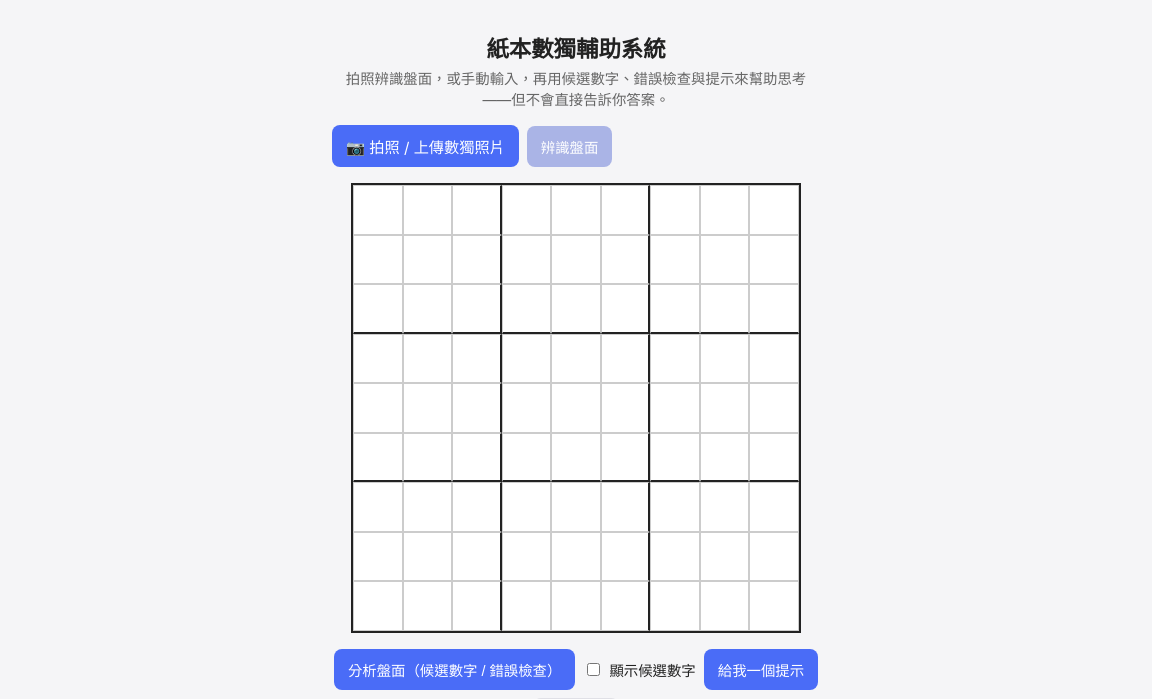
Test: App › clears manual candidates when a value is entered into the cell
The width and height of the screenshot is (1152, 699).
Press the mouse on the 1st element with class "cell" at {"x": 378, "y": 210}, box [353,185,402,234]
Wait 500 ms
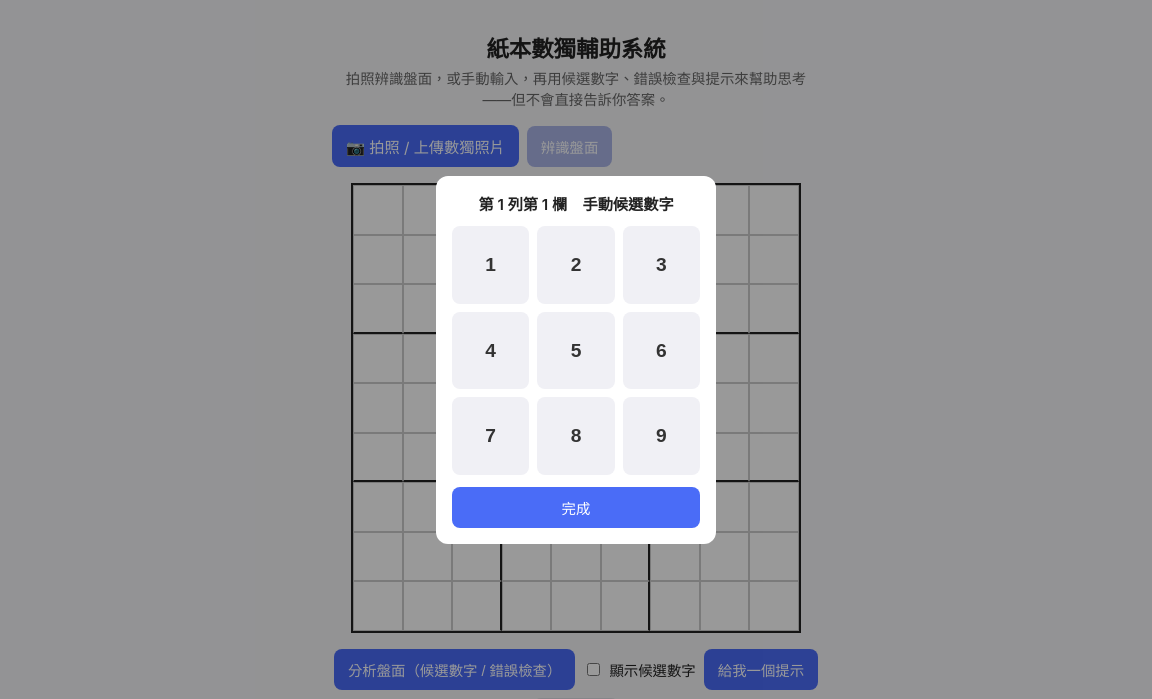
Click the button "5" at {"x": 576, "y": 350}, box [537,312,615,389]
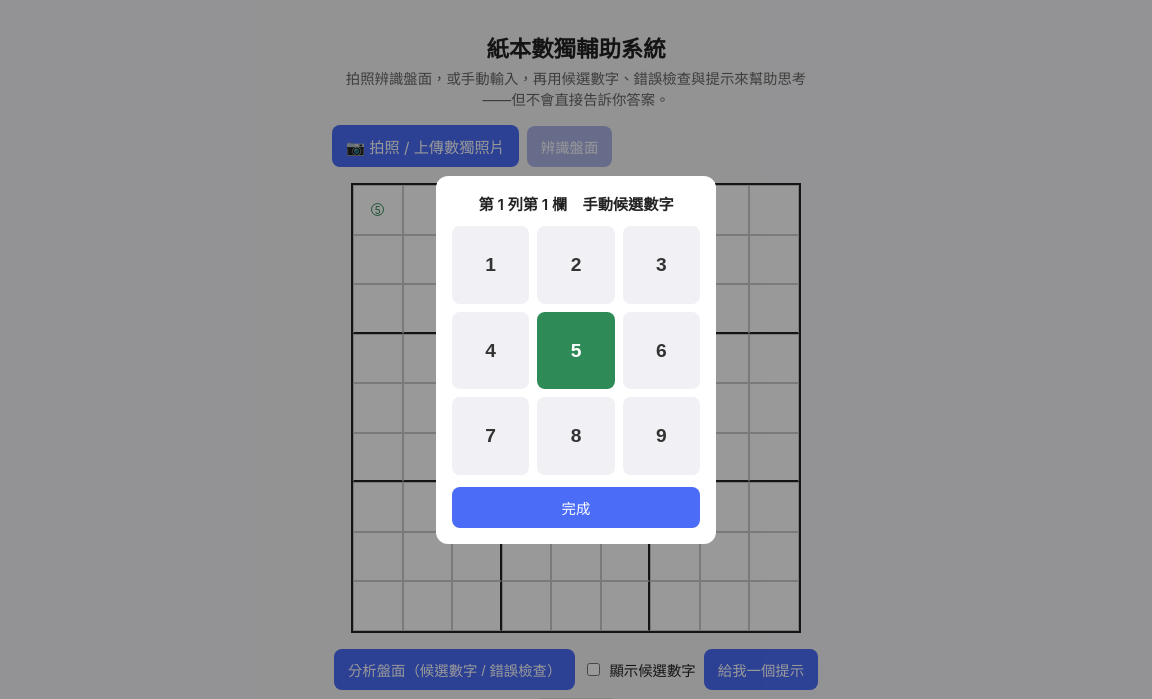
Click the button "完成" at {"x": 576, "y": 507}, box [452,486,700,528]
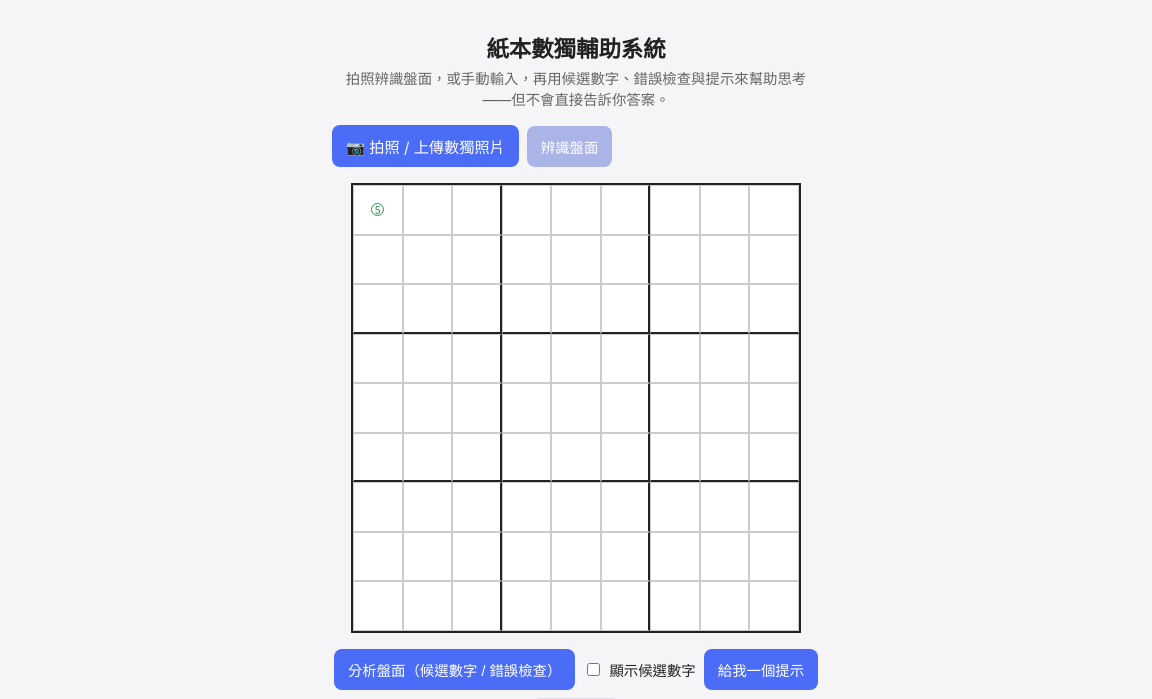
Expected: the element with class "cell" has class "show-user-candidates"
Type "5" into the 1st field with class "cell-input" at {"x": 378, "y": 210}, box [354,186,402,234]
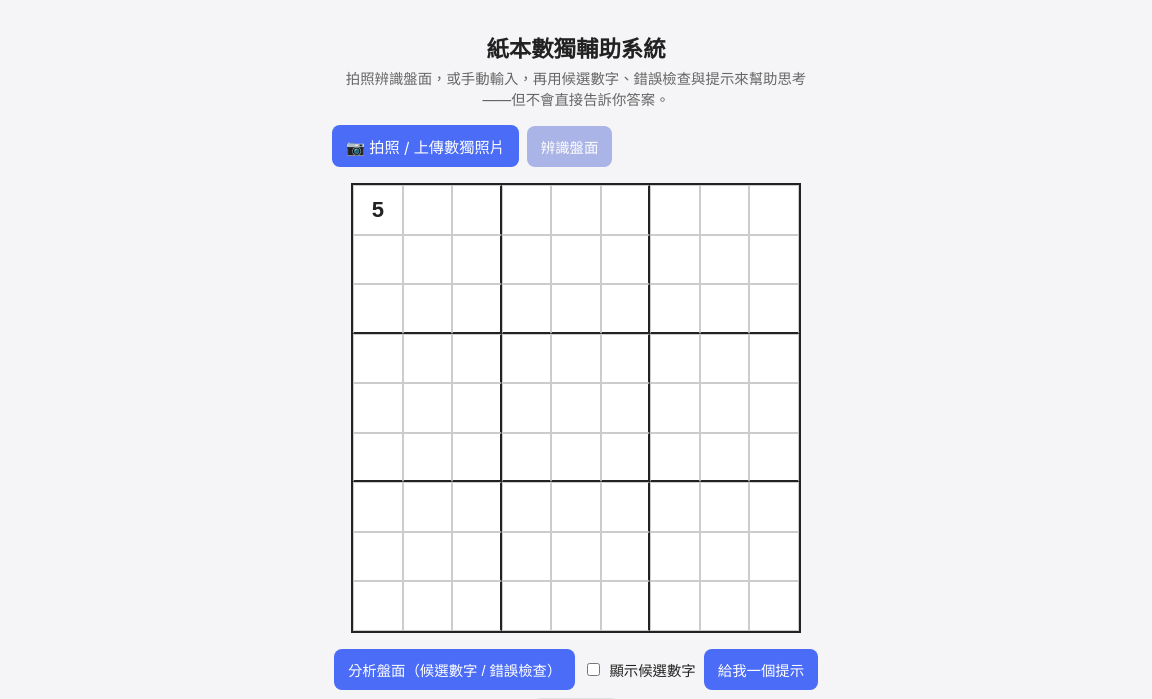
Expected: the 1st element with class "cell" does not have class "show-user-candidates", [353,185,402,234]
